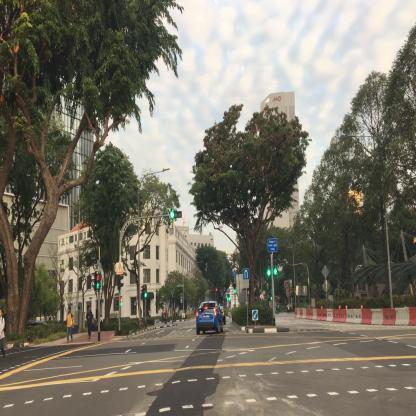green_traffic_light: (266, 256, 270, 276), (170, 212, 182, 218), (144, 285, 147, 298)
